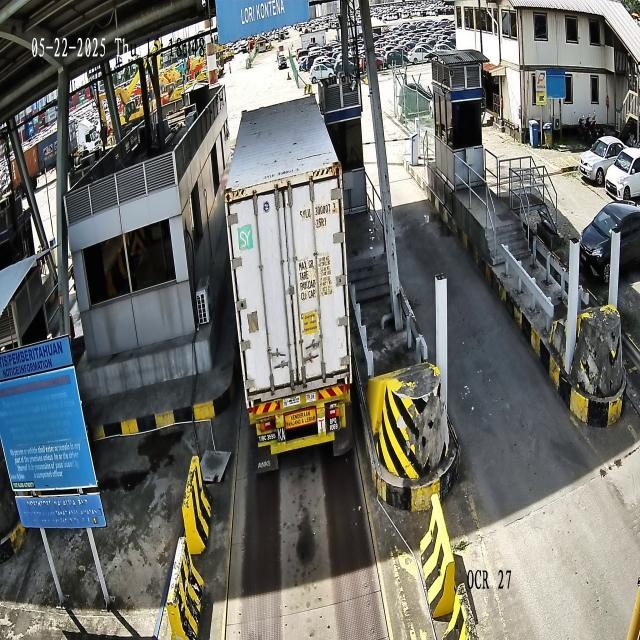ISO: (316, 217, 327, 230)
container_number: (300, 200, 338, 220)
